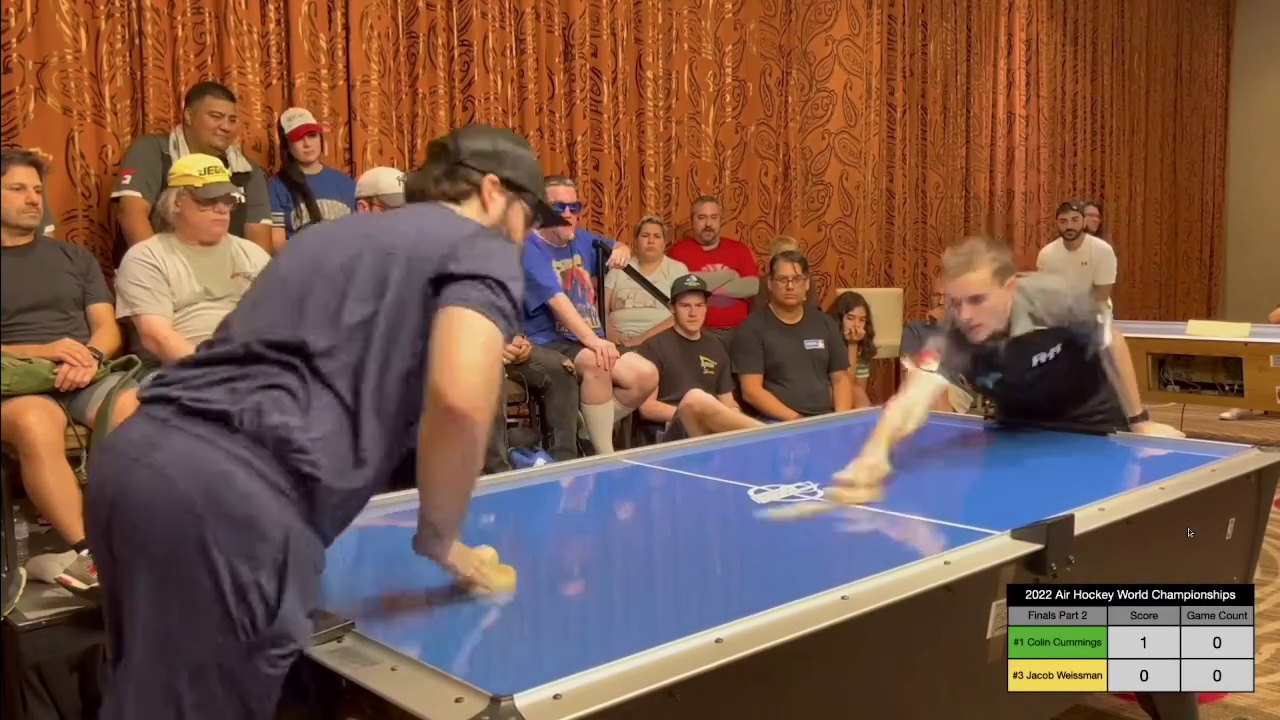player: (456, 546, 517, 598), (824, 467, 891, 503)
puck: (773, 496, 831, 519)
table: (230, 404, 1280, 701)
